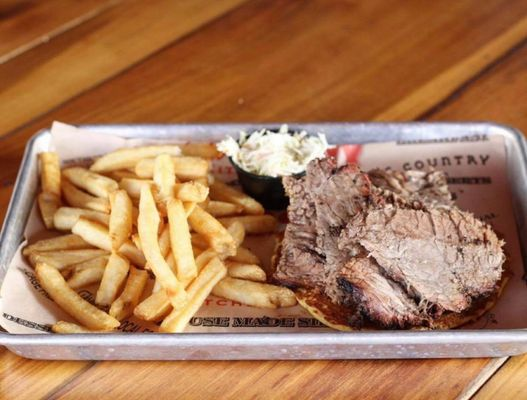soup: (270, 137, 524, 332)
